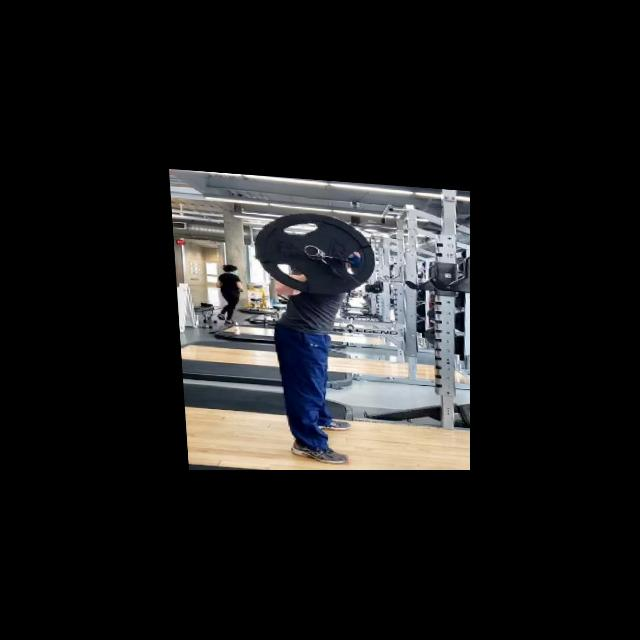barbell: (248, 205, 378, 299)
